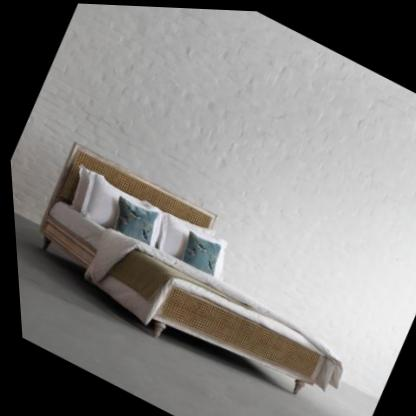Bed: (7, 130, 382, 416)
